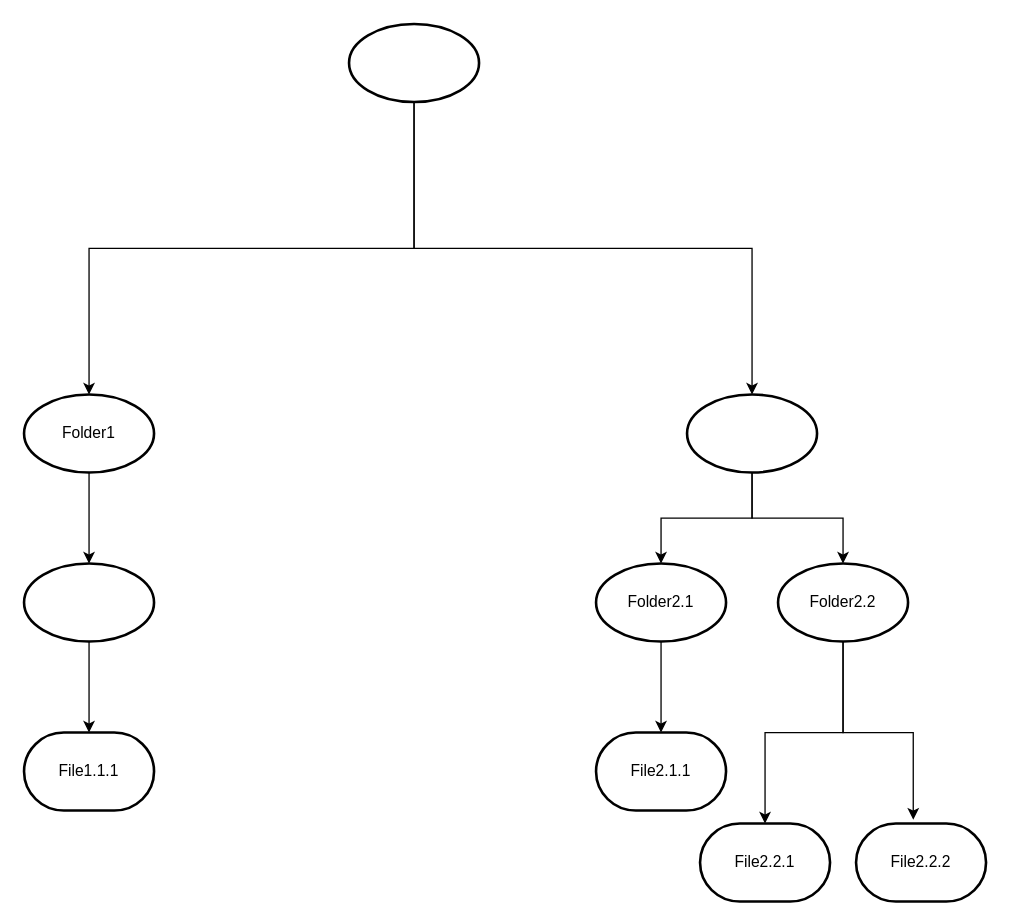
The diagram is 1009 pixels wide and 924 high, and some of its shapes have lost their labels. The centre of each missing label's shape, as x and y in pixels:
"Folder" goes at (413,62).
"Folder1.1" goes at (88,602).
"Folder2" goes at (751,433).
